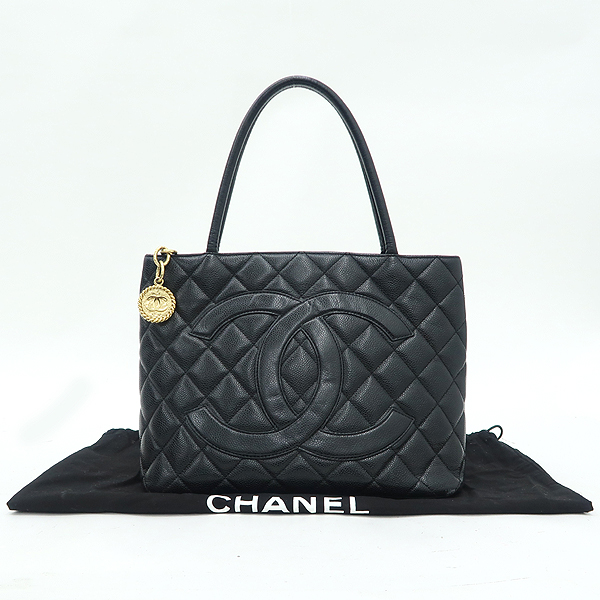channel: (126, 234, 485, 500), (175, 285, 437, 457), (187, 490, 387, 525)
